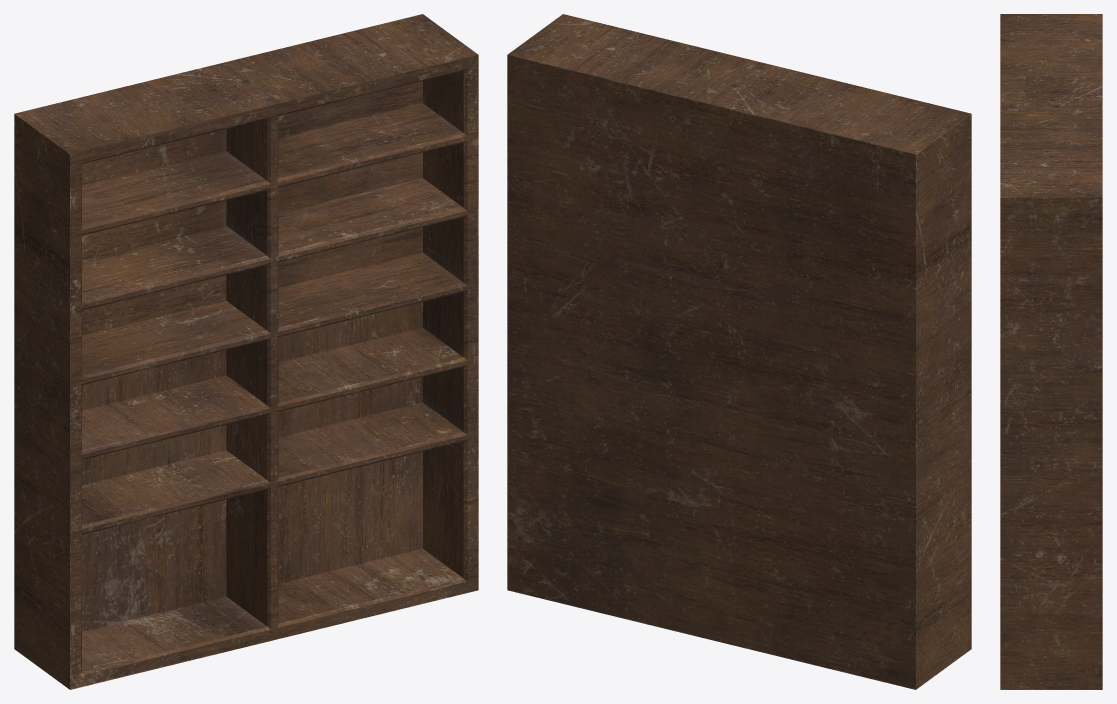
The model's file is book shelf.fbx.
3 renders of one model, left to right at view 1: azimuth 30°, elevation 25°; view 2: azimuth 150°, elevation 25°; view 3: azimuth 270°, elevation 25°, orthographic. The views are drawn at different scales.
Parts seen in each view (by area): view 1: Cube; view 2: Cube; view 3: Cube.
Boxes of the visible parts, x1=… form: Cube: x1=14, y1=14, x2=478, y2=689; Cube: x1=507, y1=14, x2=971, y2=689; Cube: x1=1000, y1=14, x2=1102, y2=689.
Bounding box in the file's own units: 200 × 251 × 47.15.
